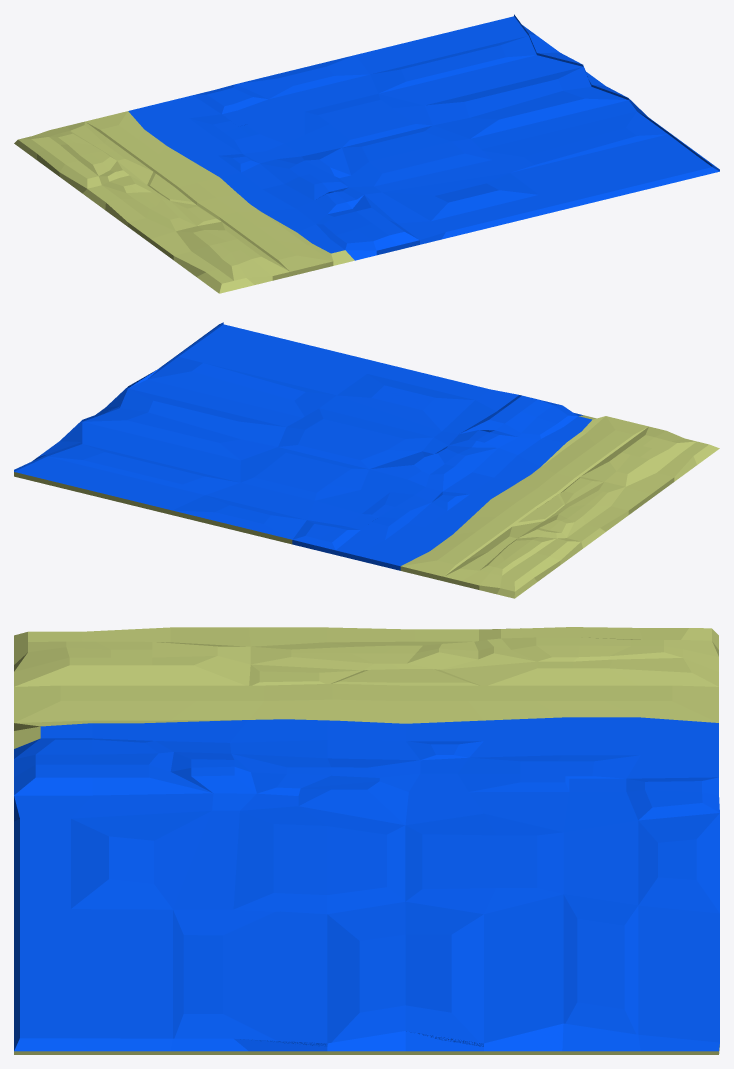
Rendered from CoastLine.fbx.
The picture shows the model from 3 angles, top to bottom: view 1: azimuth 30°, elevation 25°; view 2: azimuth 150°, elevation 25°; view 3: azimuth 270°, elevation 25°; orthographic projection. The views are drawn at different scales.
Visible parts, largest first — view 1: Cube; view 2: Cube; view 3: Cube.
Boxes of the visible parts, <box> form: Cube: <box>14,14,719,293</box>; Cube: <box>14,322,719,598</box>; Cube: <box>14,627,719,1054</box>.
Bounding box in the file's own units: 22528 × 489 × 16021.
